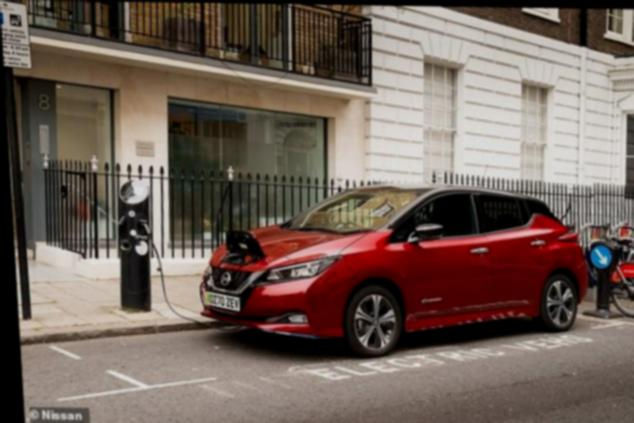License_Plate: (198, 286, 243, 319)
